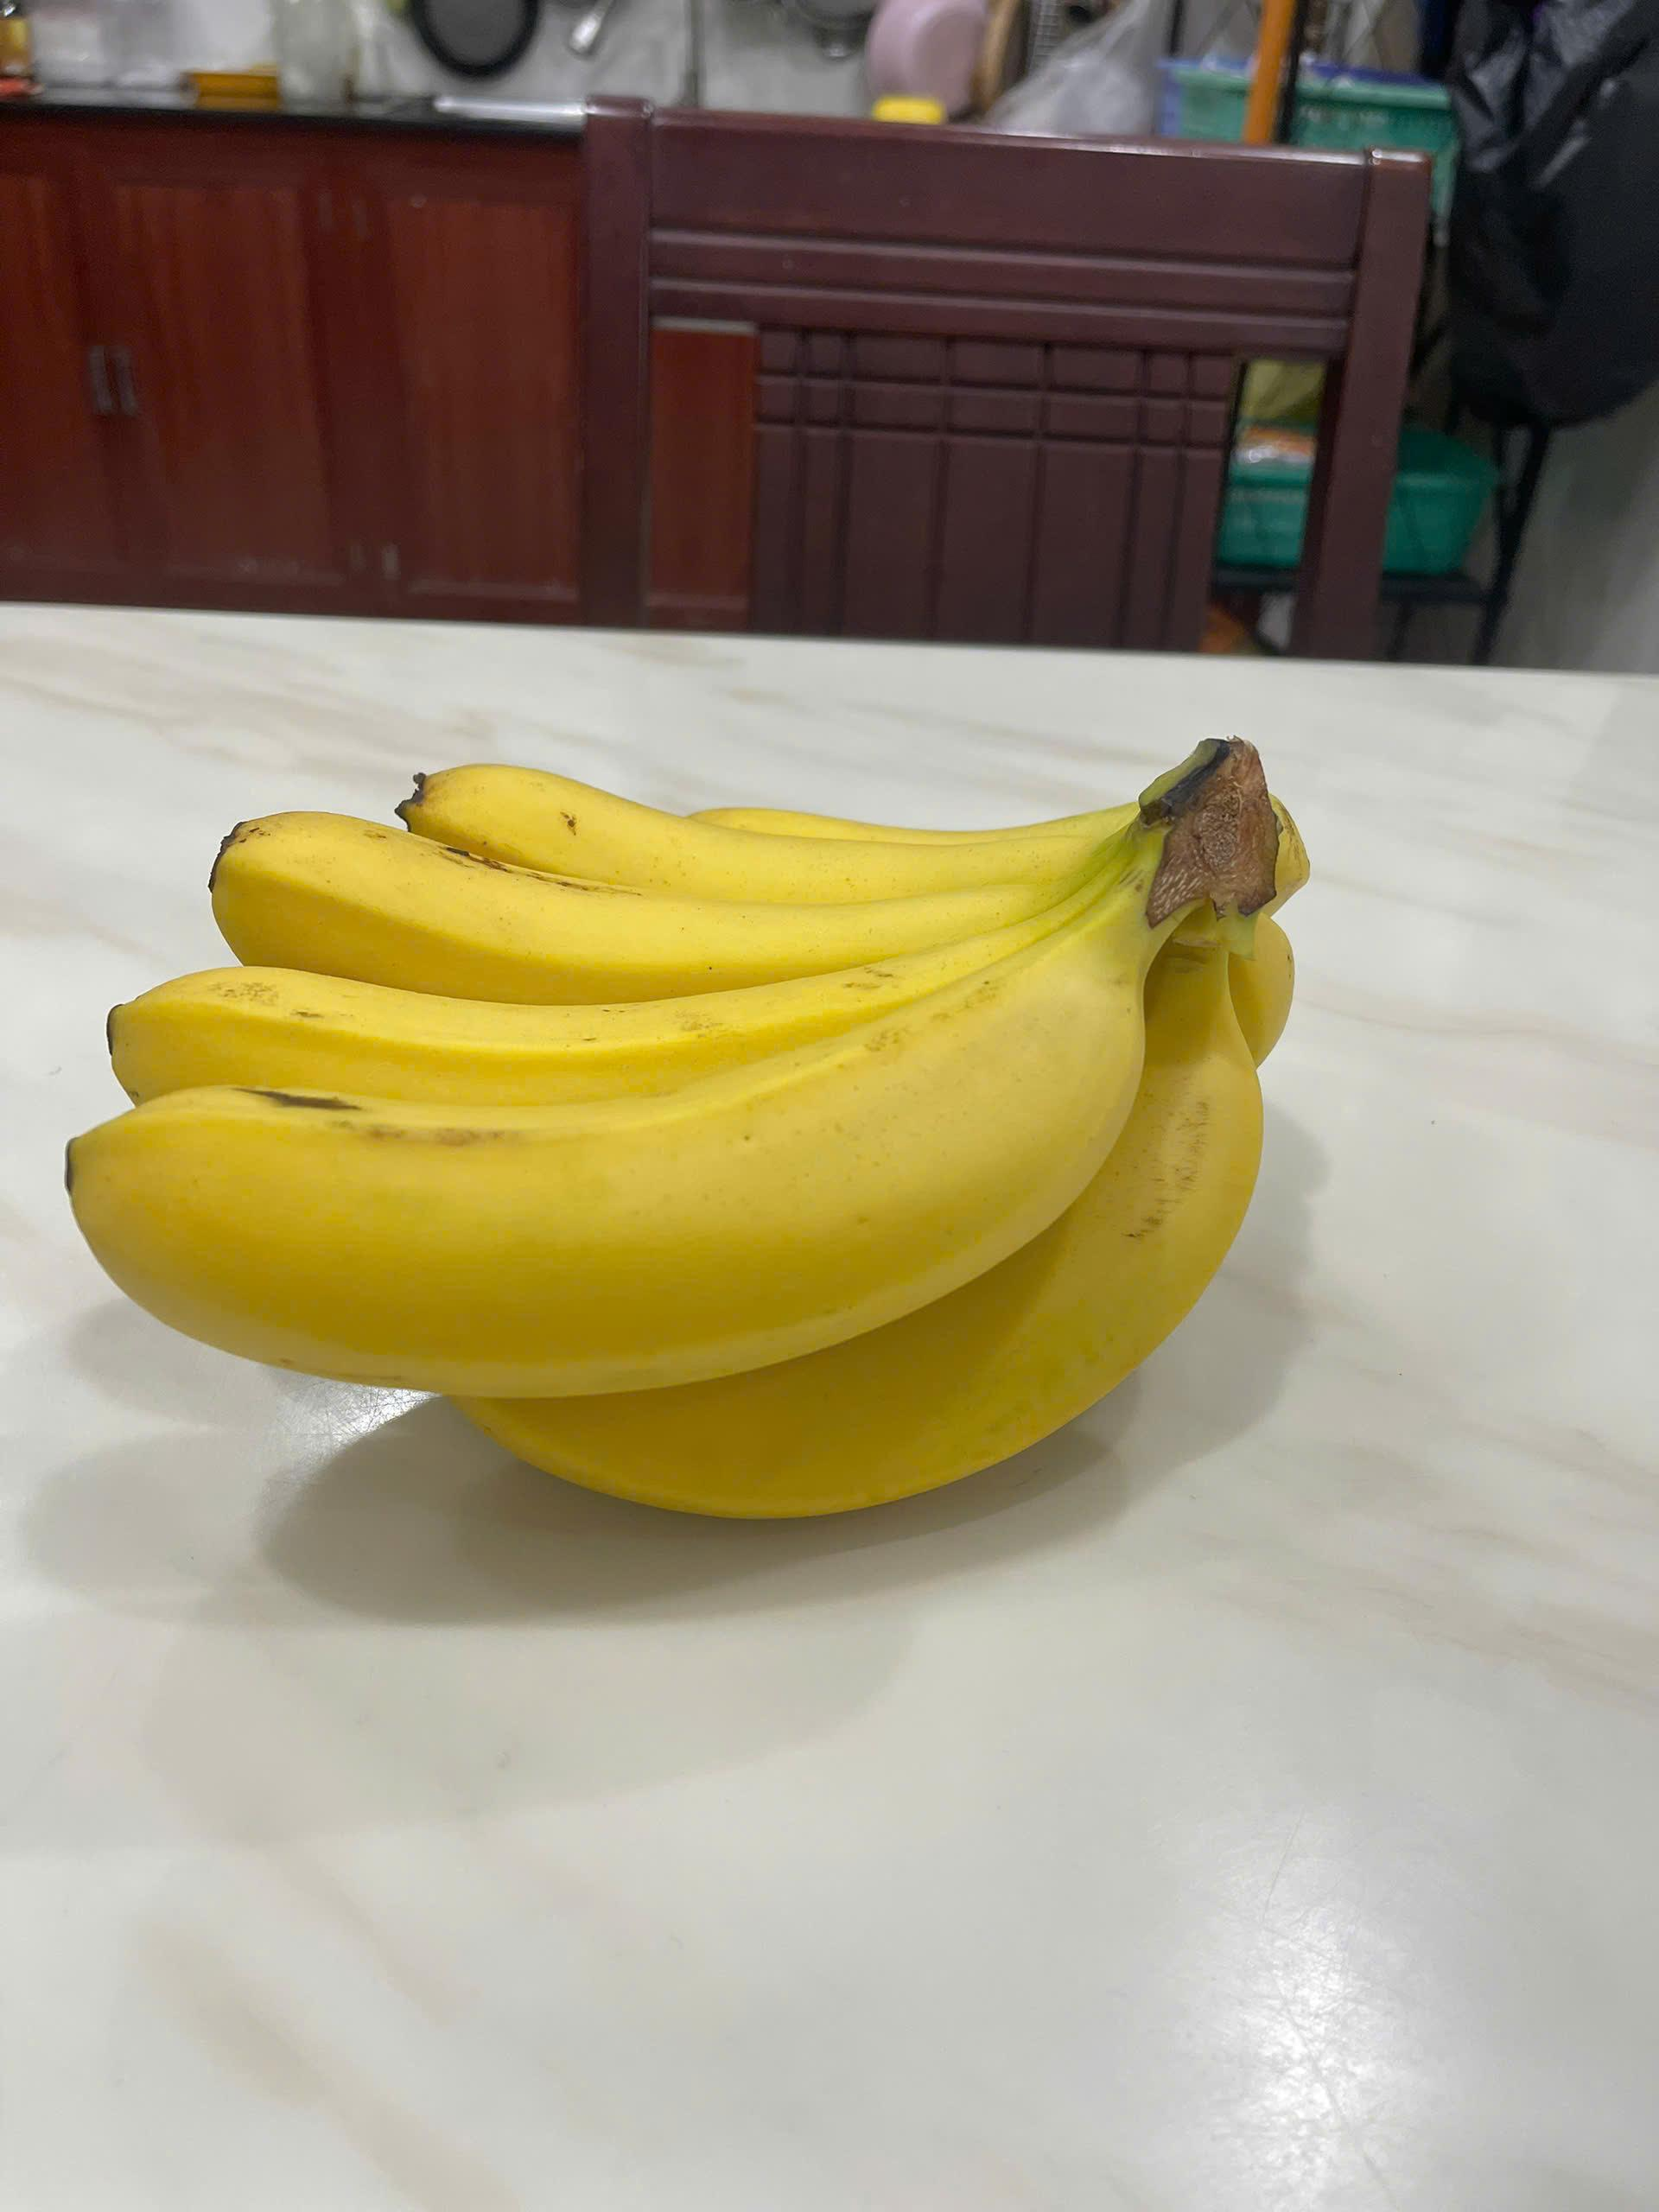banana: (32, 720, 1440, 1573), (69, 845, 1231, 1467)
